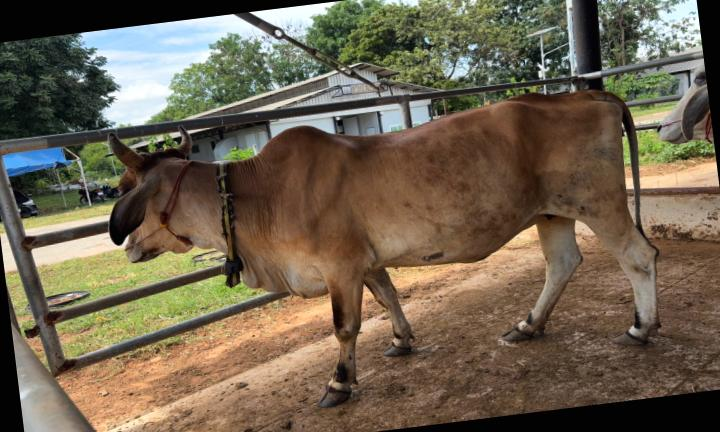Brahman: (107, 89, 660, 406)
